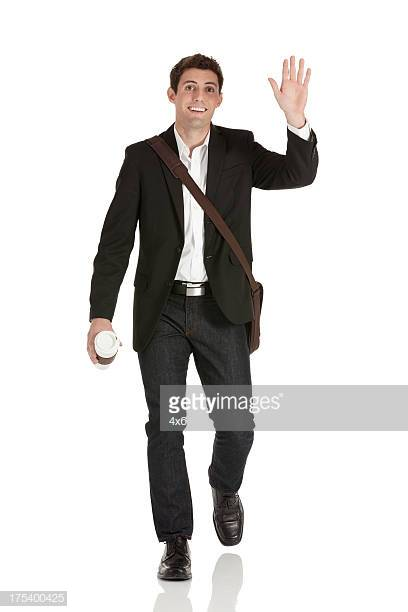open_hand: (256, 42, 328, 131)
